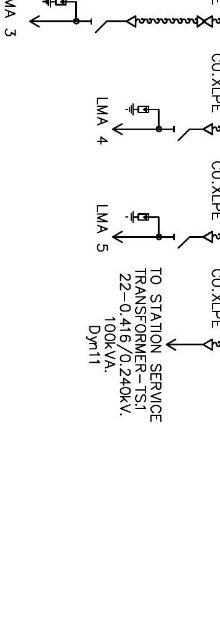22_ds_la_out: (111, 210, 190, 249), (111, 103, 190, 141)
terminator_single: (202, 230, 214, 244), (203, 338, 214, 352), (203, 122, 214, 136), (126, 15, 137, 29)
terminator_splicing_kits: (196, 15, 214, 28)
